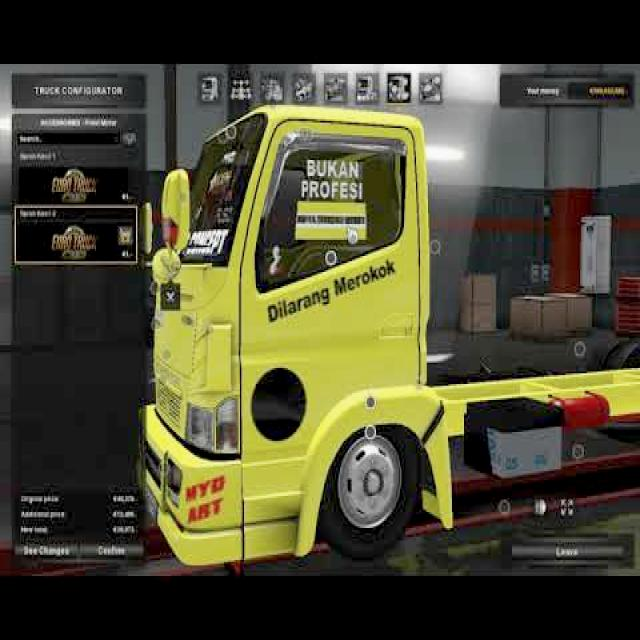truck: (141, 110, 640, 567)
